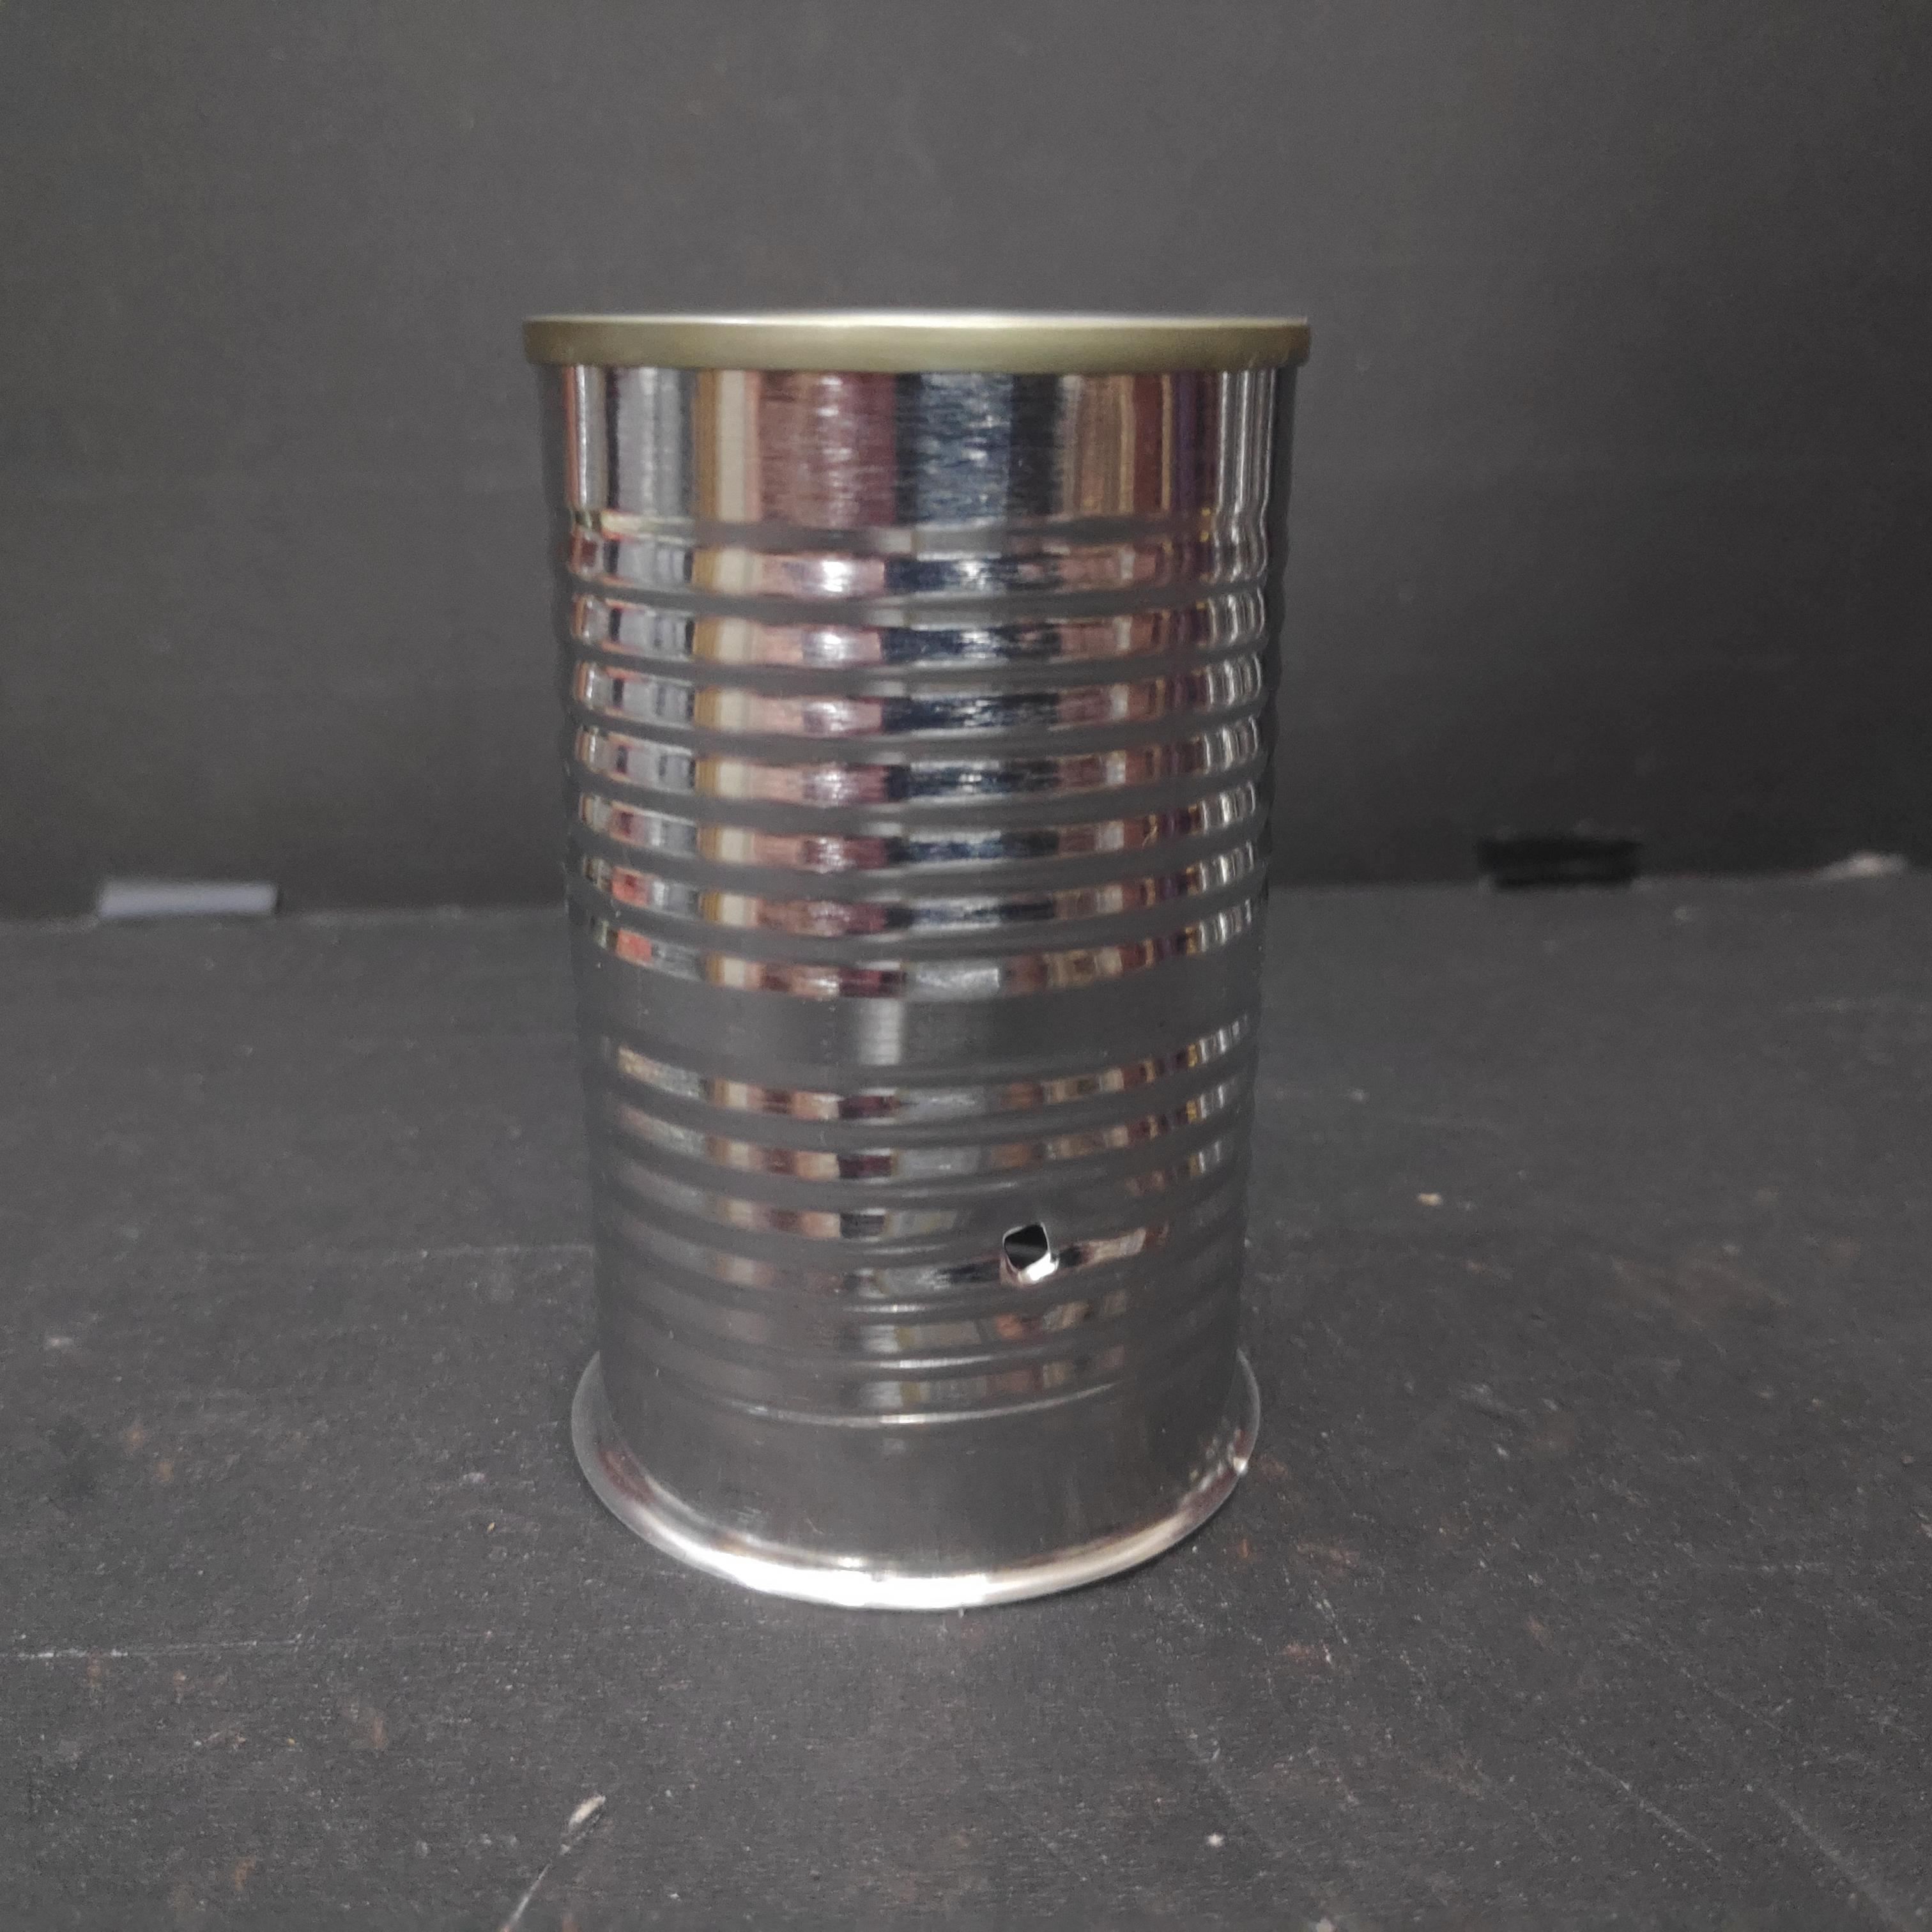Critical Defect: (509, 295, 1330, 1617)
